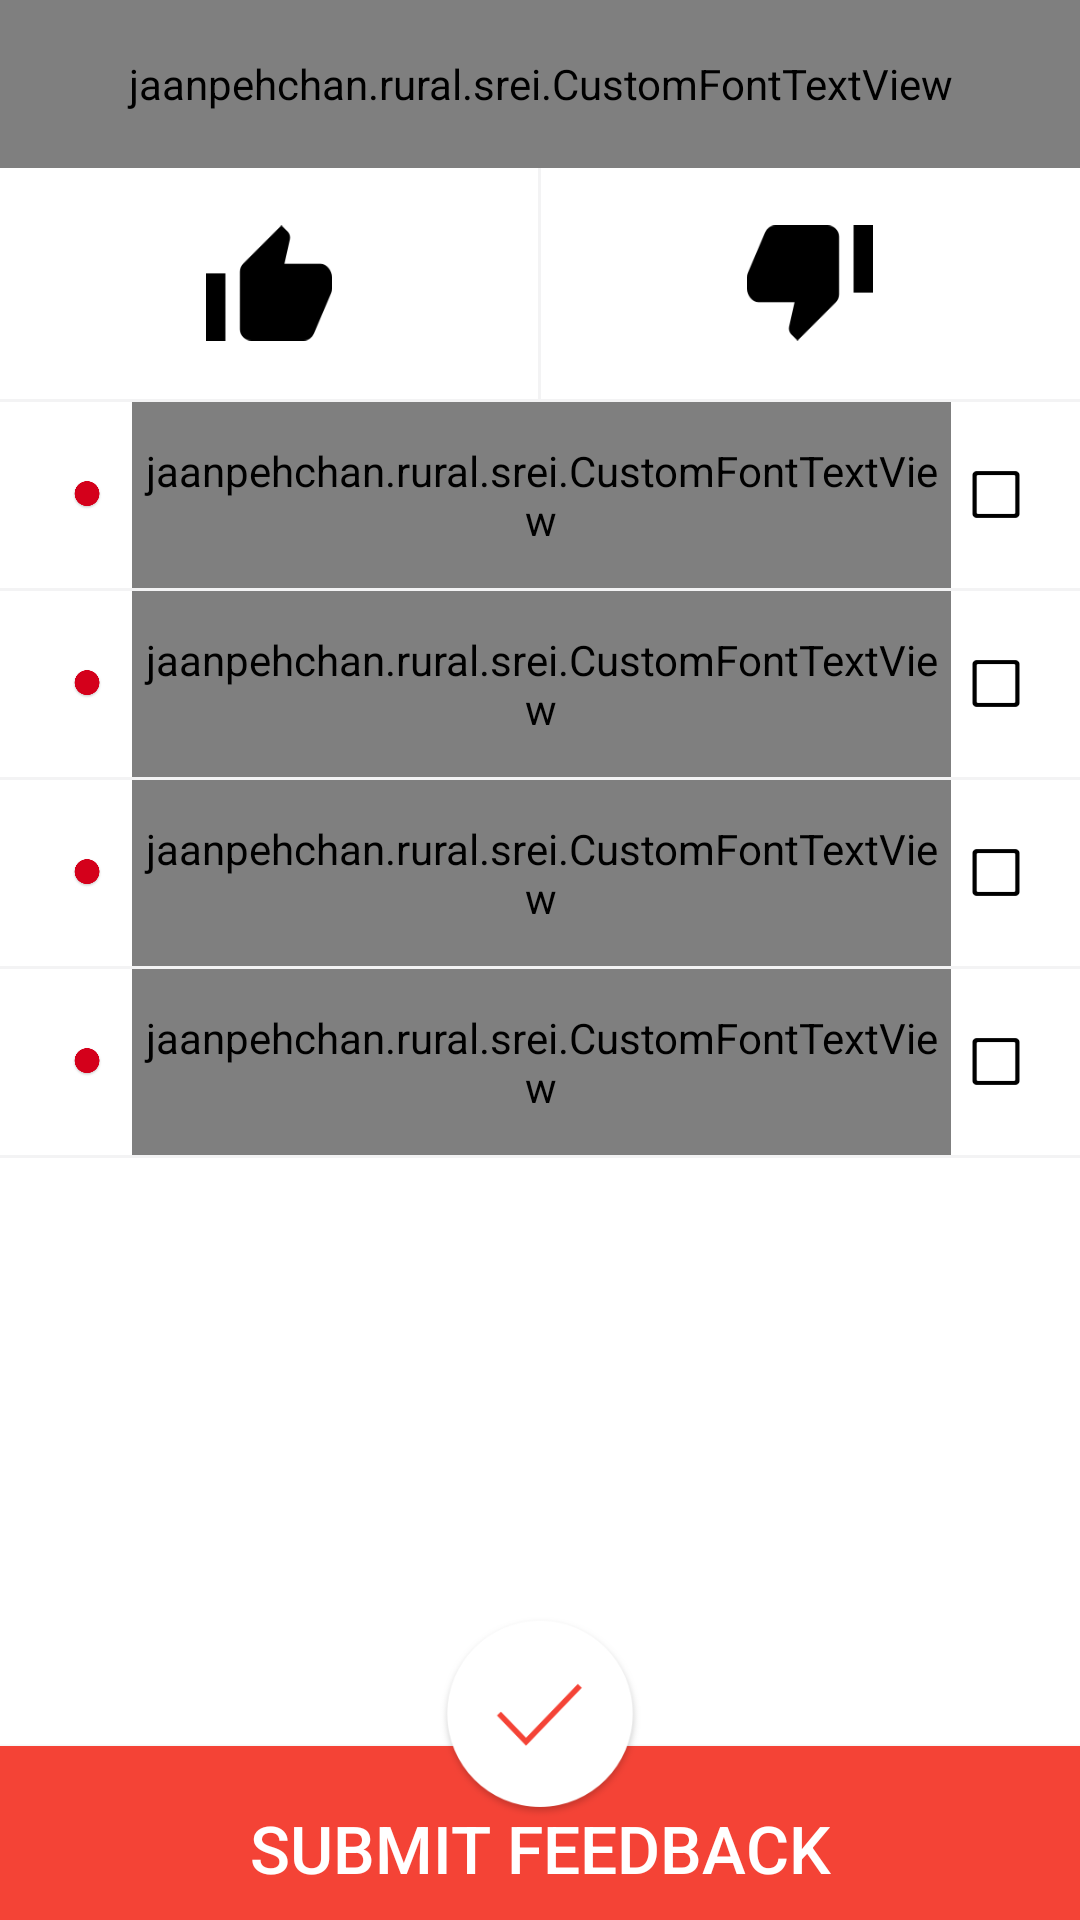

Icons on this 1080 × 1920 Android screen, each with the point to tap as point (x, y):
checkbox empty: point (996, 494), point (996, 683), point (996, 872), point (996, 1061)
thumbs down: point (810, 283)
thumbs up: point (269, 283)
